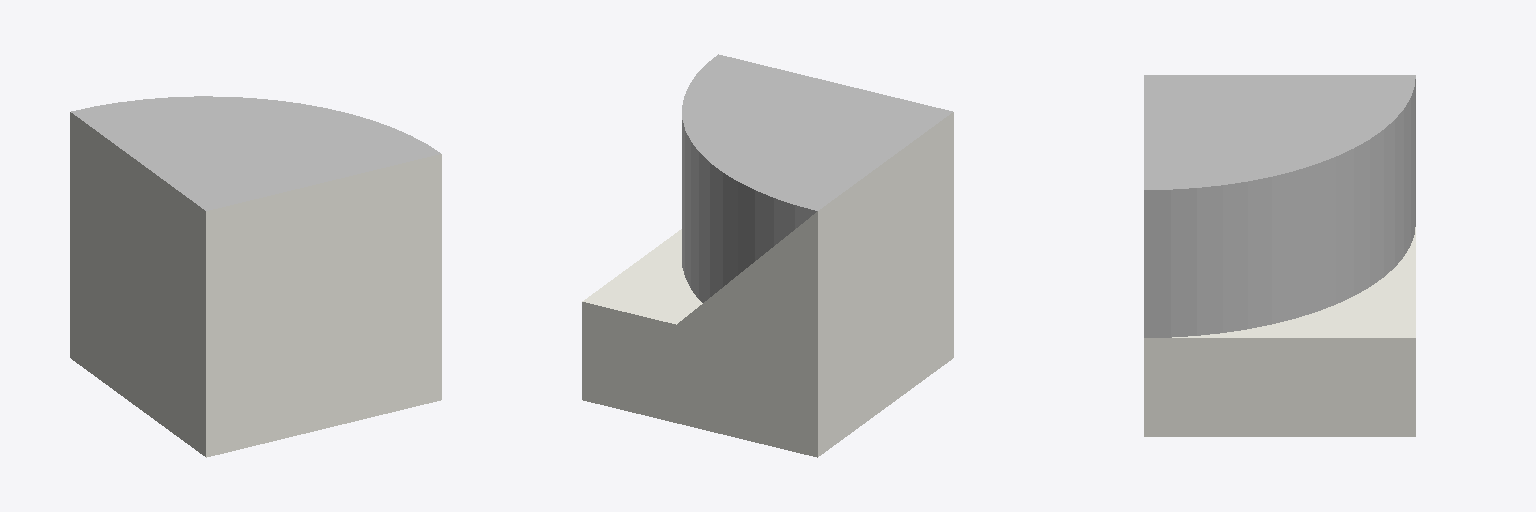
File: water_corner_alt_tile.obj
3 renders of one model, left to right at view 1: azimuth 30°, elevation 25°; view 2: azimuth 150°, elevation 25°; view 3: azimuth 270°, elevation 25°, orthographic.
Parts seen in each view (by area): view 1: tile; view 2: tile; view 3: tile.
Part boxes in pixels (left/top/right/bottom): tile: left=70, top=96, right=441, bottom=457; tile: left=582, top=54, right=953, bottom=457; tile: left=1144, top=75, right=1415, bottom=436.
Size of the model in its own units: 1 by 1 by 1.